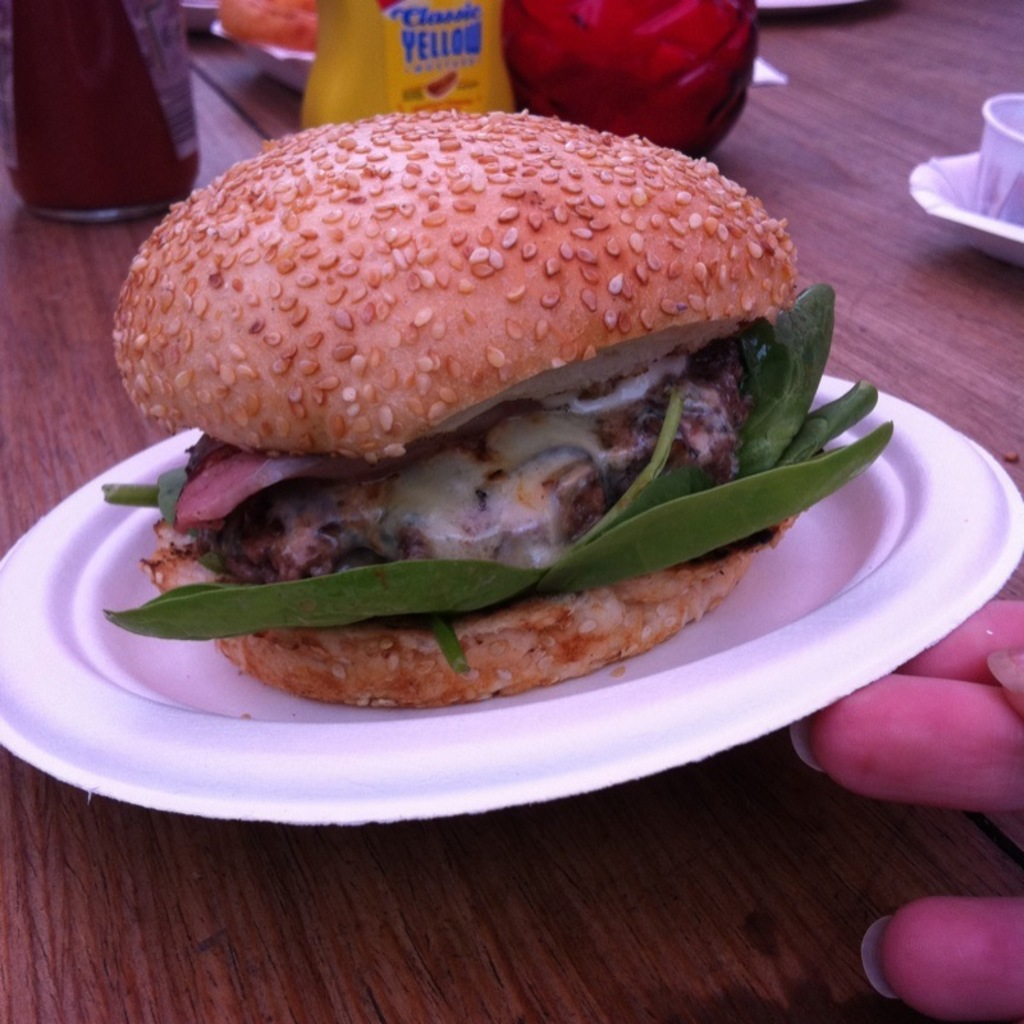Hamburger: (96, 111, 897, 706)
